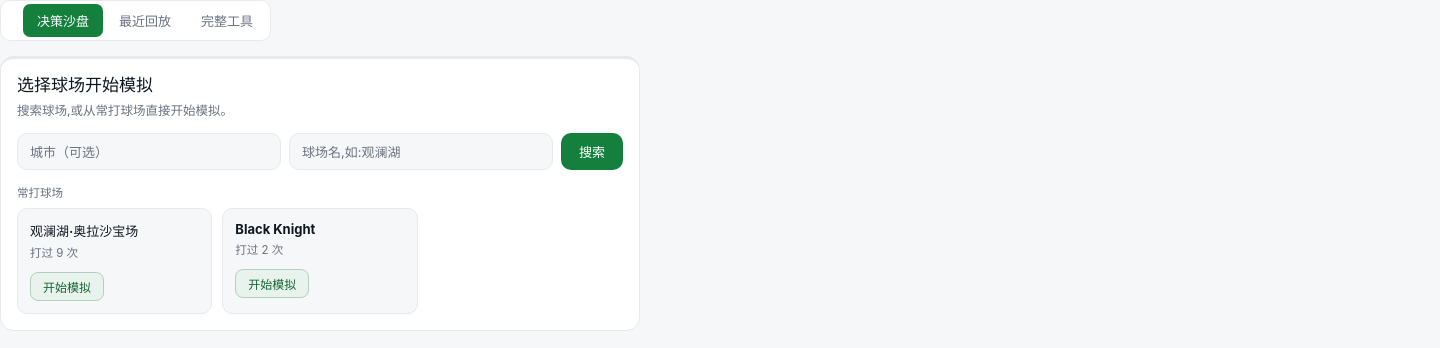
Scenario: LivePage 最近回放 detail › shows the zh empty state and fetches nothing without recent rounds
Click the button "最近回放" at (145, 20), box x1=105 y1=4 x2=185 y2=37
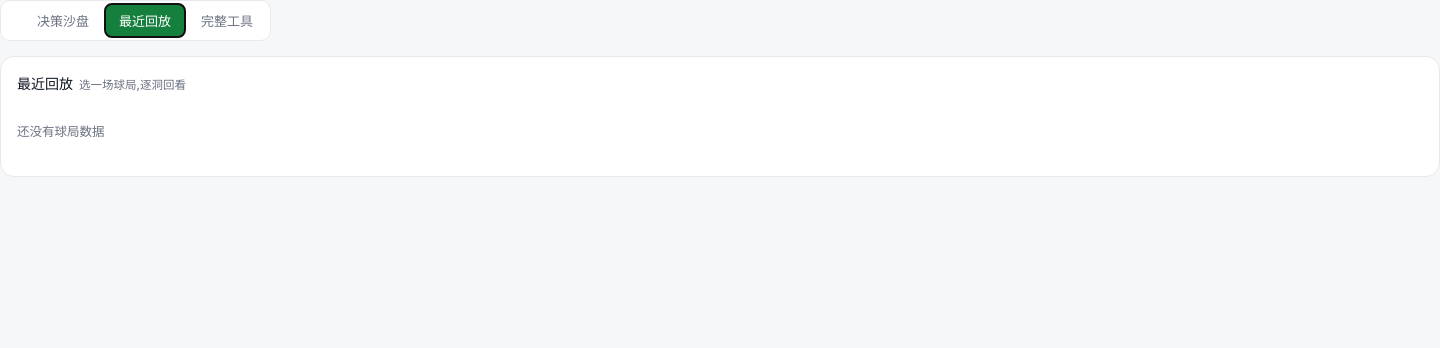
Result: the text "还没有球局数据" is shown at x1=17 y1=124 x2=104 y2=139
